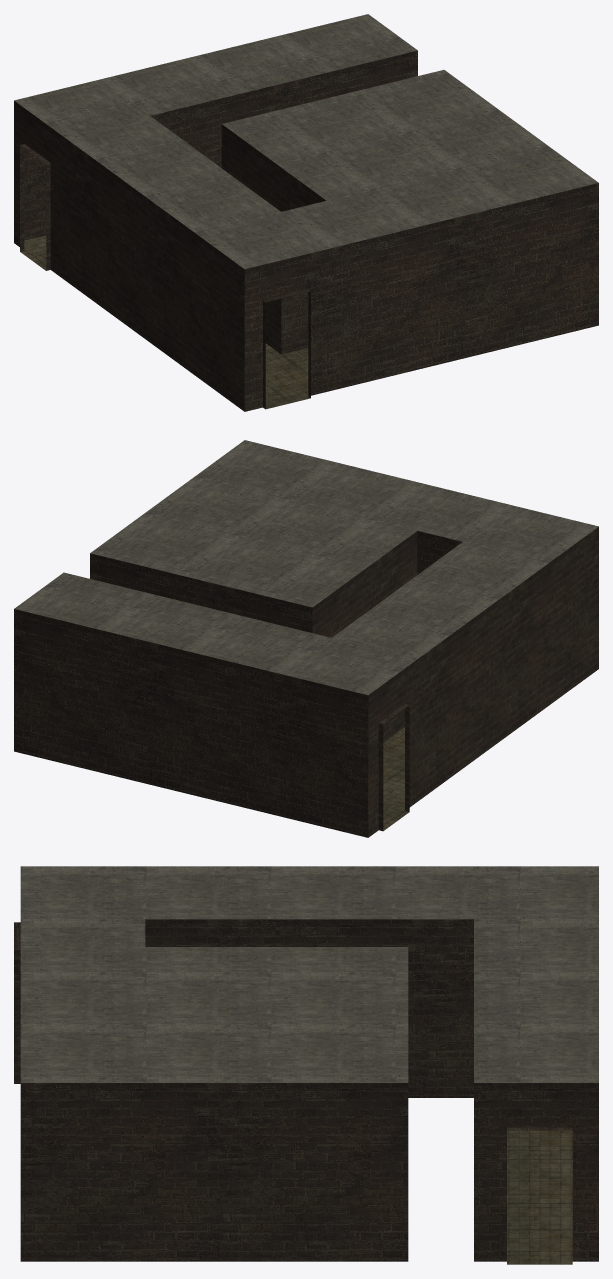
The model's file is laundry_room.glb.
3 views of the same model, one above another, from view 1: azimuth 30°, elevation 25°; view 2: azimuth 150°, elevation 25°; view 3: azimuth 270°, elevation 25° (orthographic). The views are drawn at different scales.
Visible parts, largest first — view 1: LaundryRoom-col; view 2: LaundryRoom-col; view 3: LaundryRoom-col.
Boxes of the visible parts, left/top/right/bottom form: LaundryRoom-col: left=14, top=14, right=598, bottom=411; LaundryRoom-col: left=14, top=440, right=598, bottom=837; LaundryRoom-col: left=14, top=866, right=598, bottom=1264.
Size of the model in its own units: 8 by 3 by 8.9.
3 materials, 3 textured.
